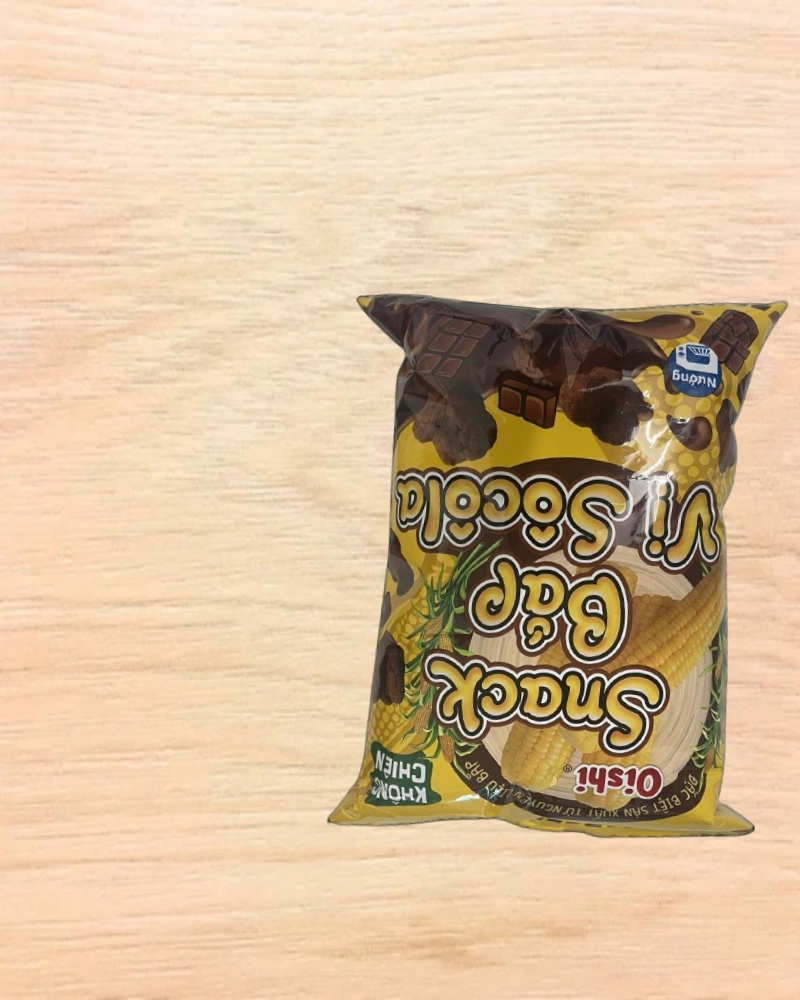Snack socola: (313, 268, 800, 860)
